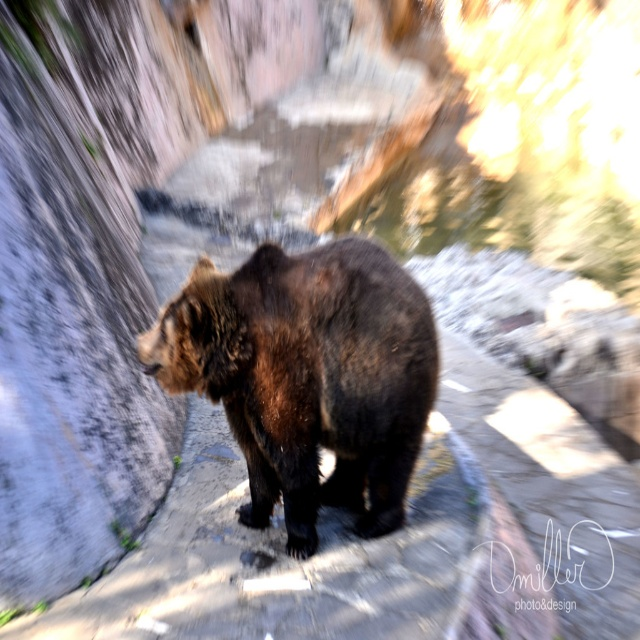Brown bear: (131, 237, 441, 561)
